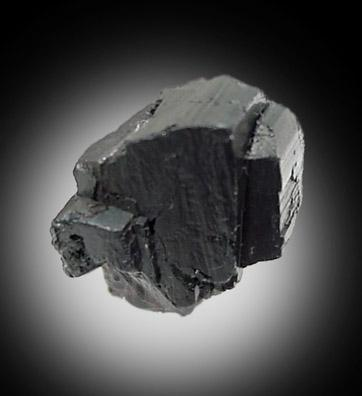tantalite: (51, 75, 305, 316)
